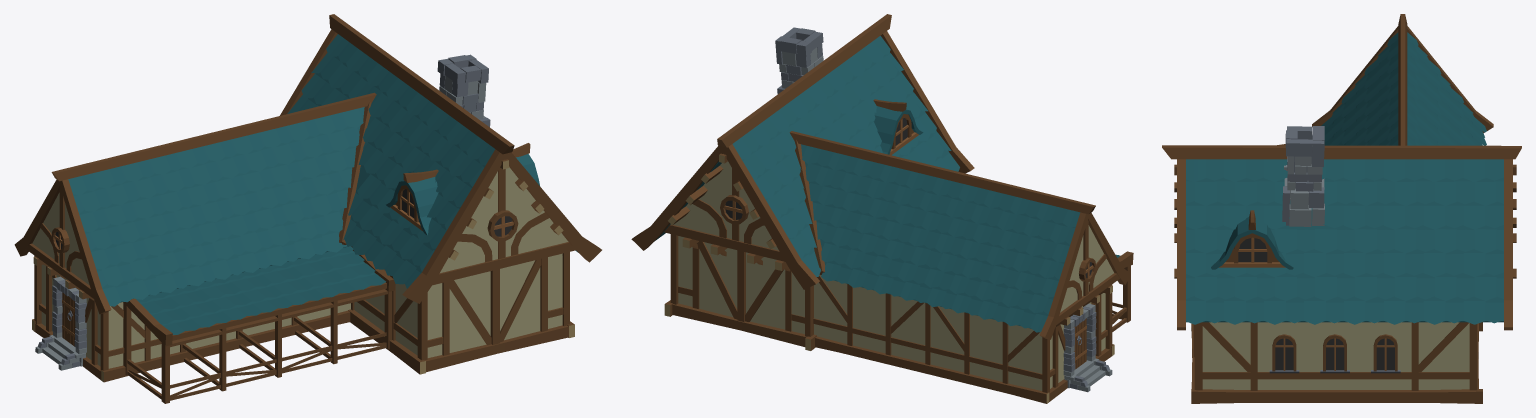
File: Stable_Baked.obj
The picture shows the model from 3 angles, left to right: view 1: azimuth 30°, elevation 25°; view 2: azimuth 150°, elevation 25°; view 3: azimuth 270°, elevation 25°; orthographic projection. The views are drawn at different scales.
Parts seen in each view (by area): view 1: Stable_Cube.195; view 2: Stable_Cube.195; view 3: Stable_Cube.195.
Boxes of the visible parts, bbox=[...] form: Stable_Cube.195: bbox=[14, 14, 601, 403]; Stable_Cube.195: bbox=[631, 14, 1133, 403]; Stable_Cube.195: bbox=[1162, 14, 1521, 403].
Size of the model in its own units: 4.7 by 2.49 by 3.33.
Materials: 1 (1 with a texture image).
